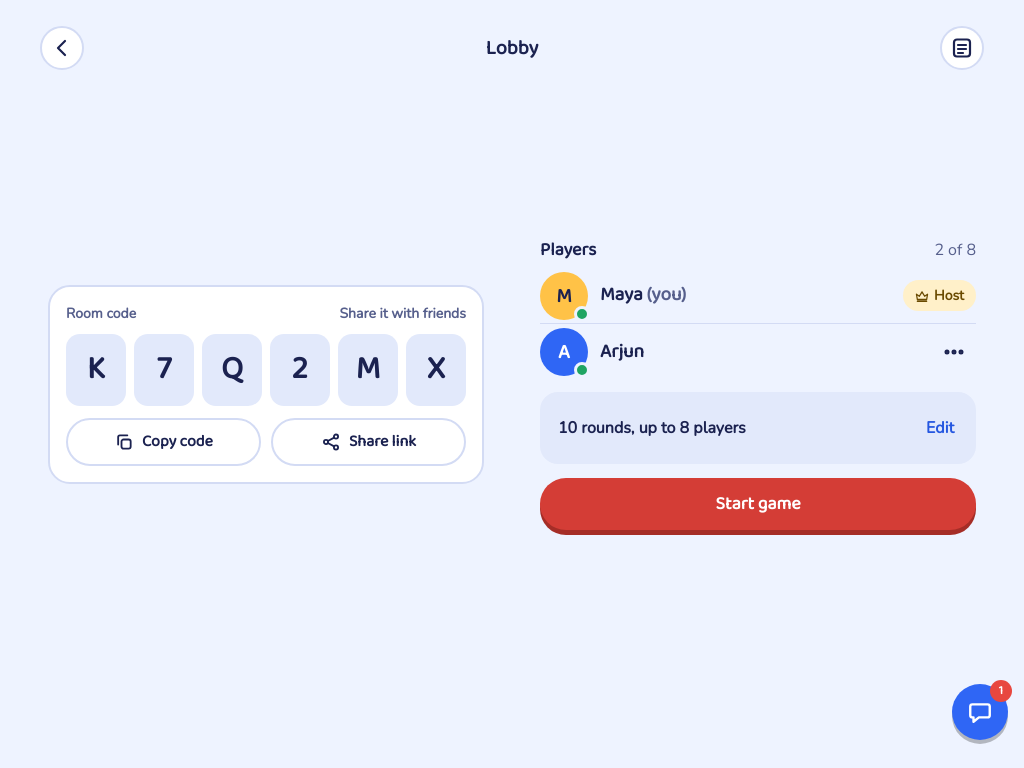
Test: chat › block: confirm hides their messages, and new ones stay hidden
Expected: the heading "Lobby" is shown, [486,36,538,60]
What coordinates should you click on to do the following:
click the button named "Open chat"
I would click on:
 (980, 712)
Its box is [952,684,1008,740].
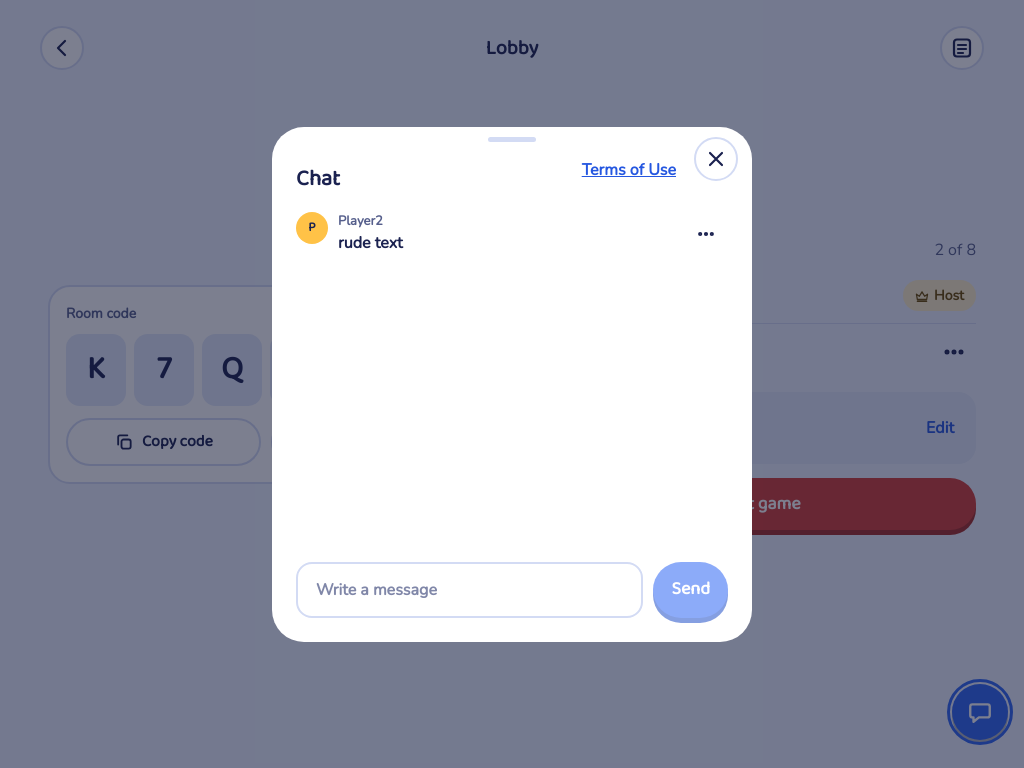
What coordinates should you click on to do the following:
click the button named "Actions for the message from Player2"
I would click on:
 (706, 234)
Its box is [684,212,728,256].
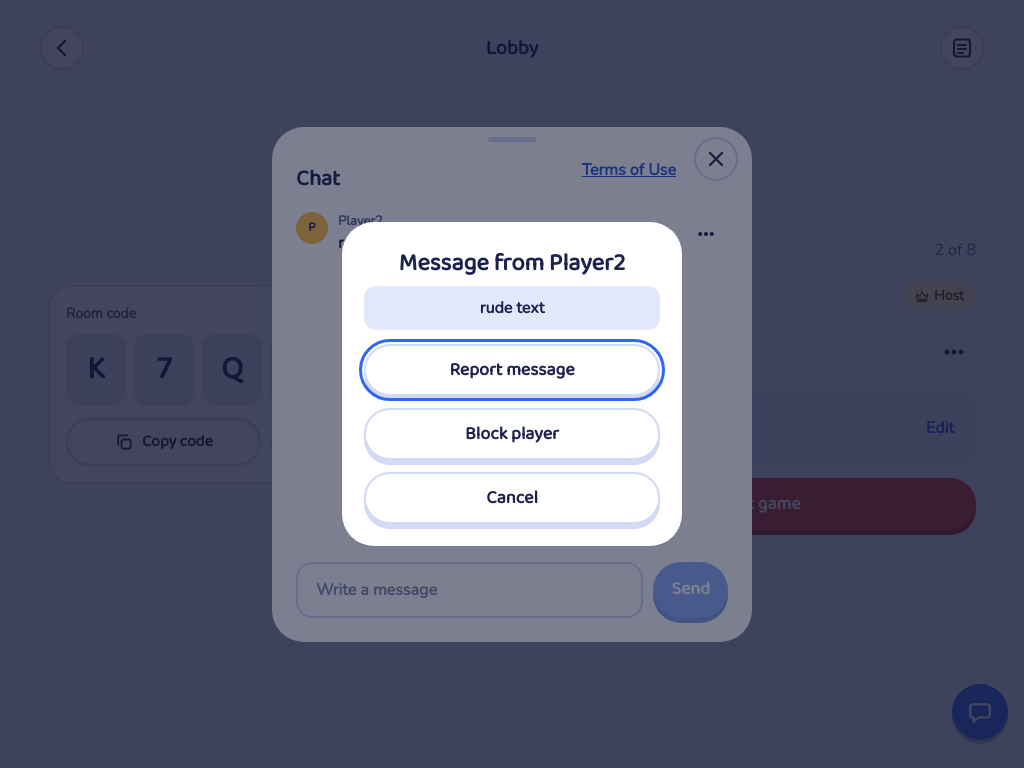
What coordinates should you click on to do the following:
click the button "Block player"
I would click on:
 (512, 434)
Its box is [364,408,660,460].
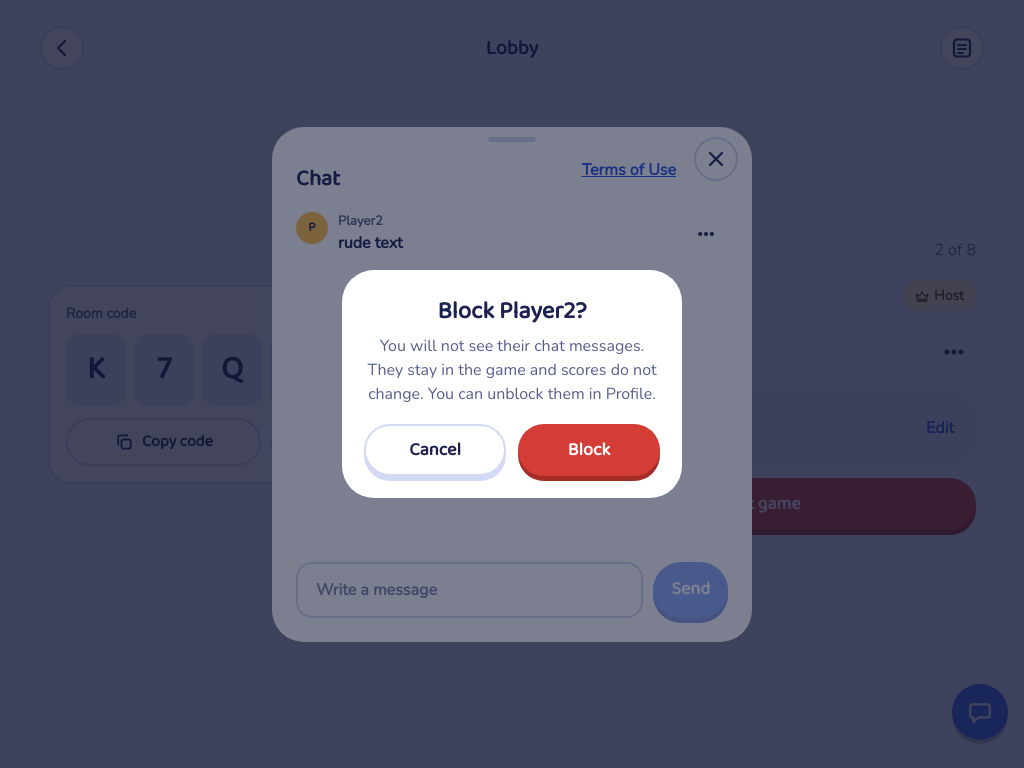
Expected: the text "They stay in the game and scores do not change" is shown, [367,335,656,405]
What coordinates should you click on to do the following:
click the button "Block"
I would click on:
 (589, 450)
Its box is [518,424,660,476].
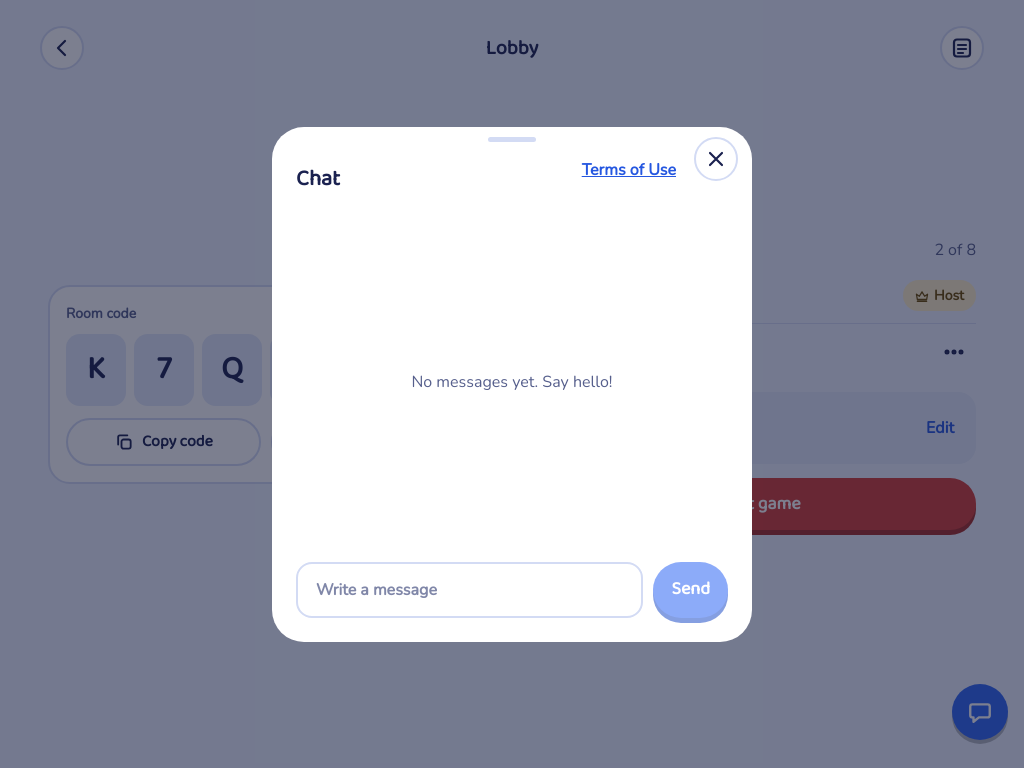
Expected: the text "rude text" is gone
Expected: the list item "No messages yet. Say hello!" is shown, [412,370,612,394]
